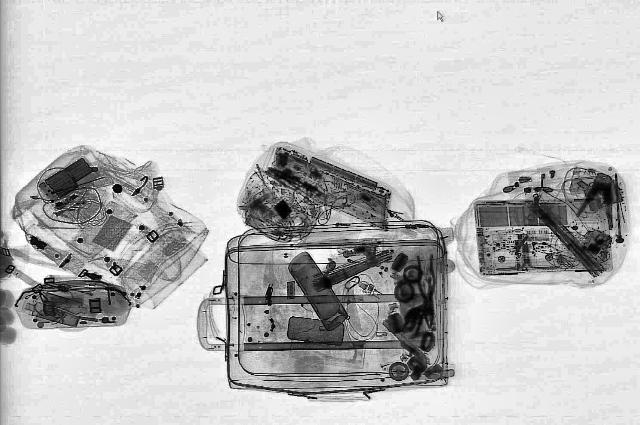Pliers: (410, 254, 448, 332), (575, 172, 623, 230)
